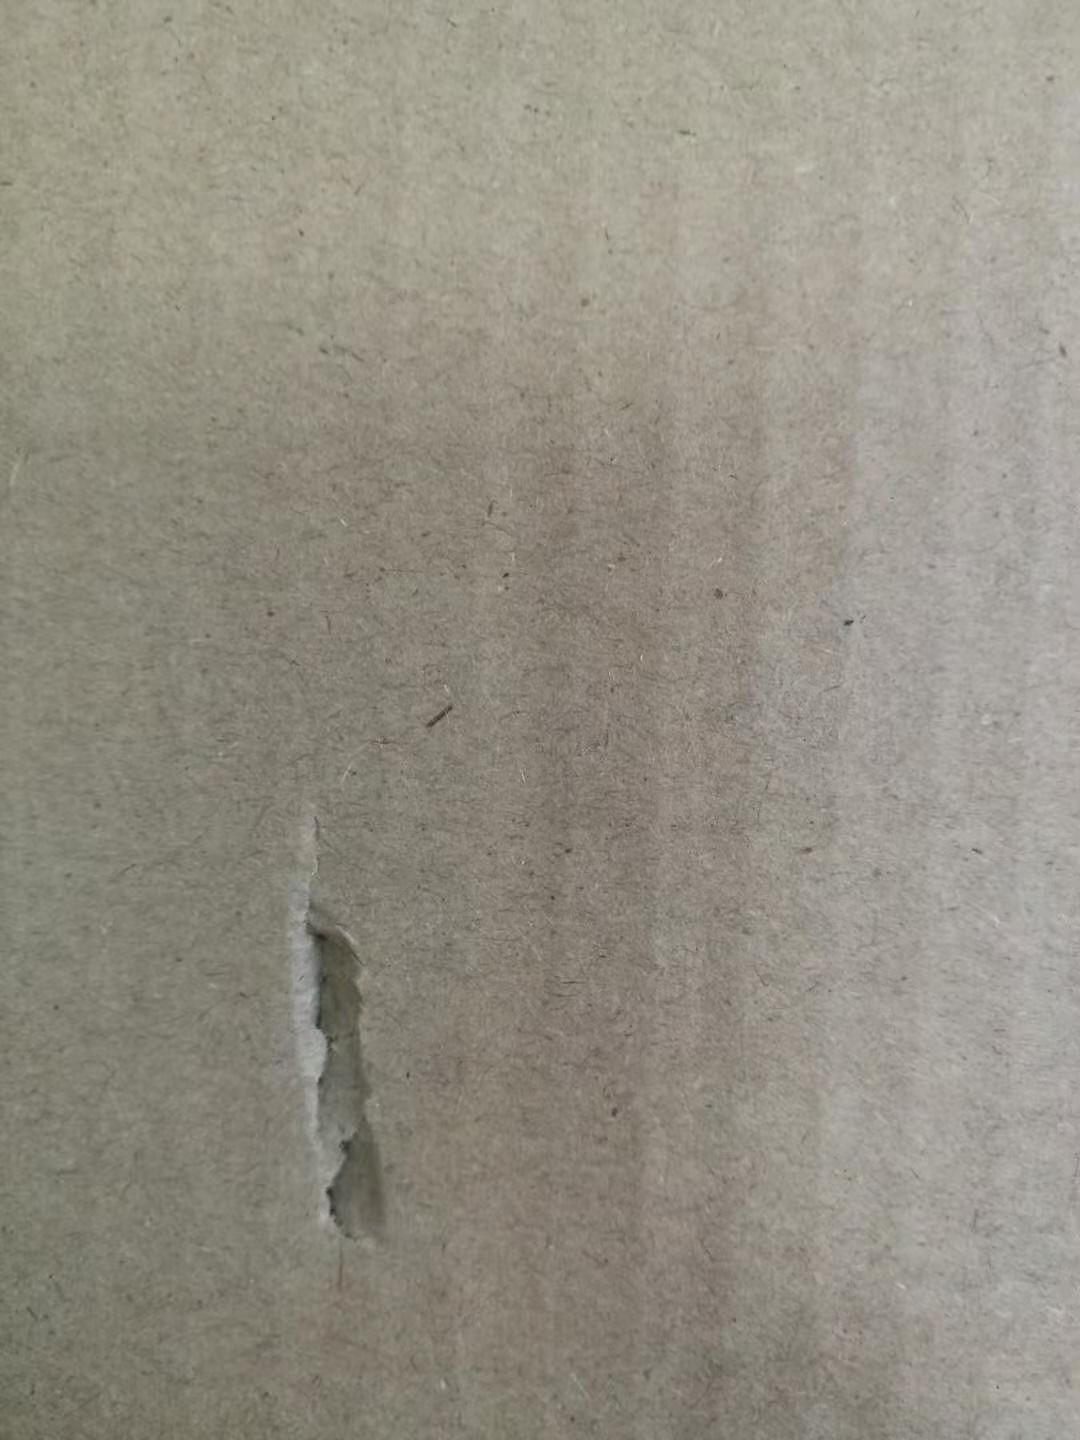defect: (246, 742, 432, 1302)
